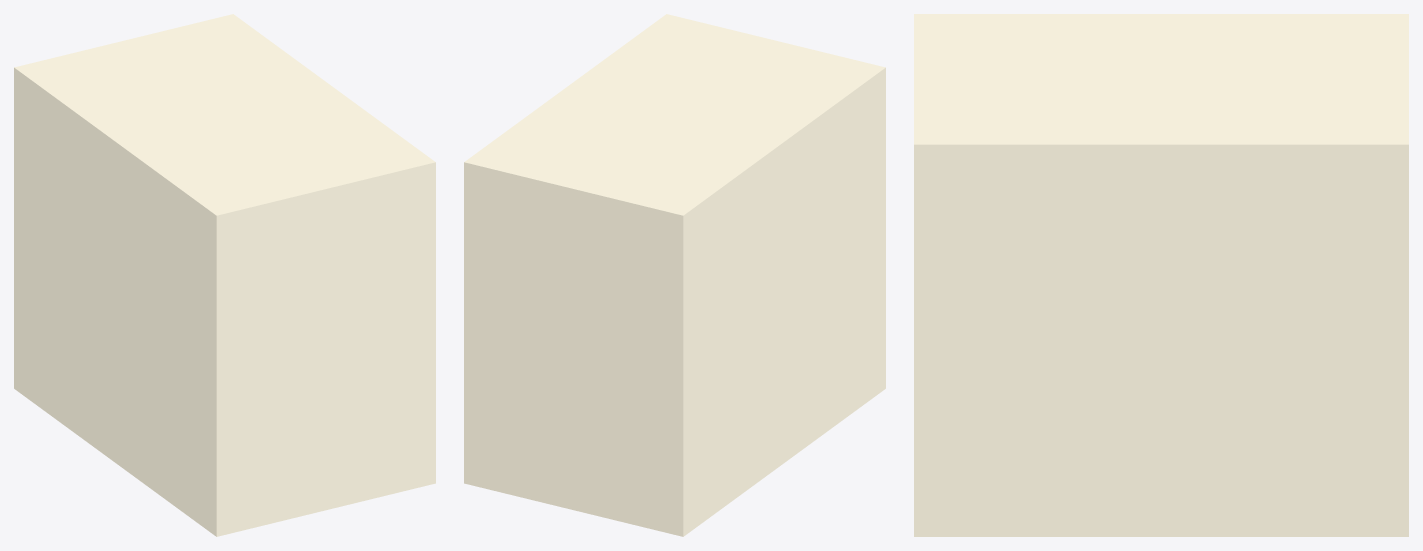
The model's file is 吉吉喵的手臂.gltf.
3 renders of one model, left to right at view 1: azimuth 30°, elevation 25°; view 2: azimuth 150°, elevation 25°; view 3: azimuth 270°, elevation 25°, orthographic. The views are drawn at different scales.
Visible parts, largest first — view 1: Object; view 2: Object; view 3: Object.
Part boxes in pixels (x1,y1,x2,y2): Object: [14, 14, 435, 536]; Object: [464, 14, 885, 536]; Object: [914, 14, 1408, 536].
Bounding box in the file's own units: 5 × 7 × 8.
1 material, 1 textured.
